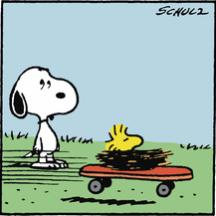snoopy: (9, 65, 79, 170)
